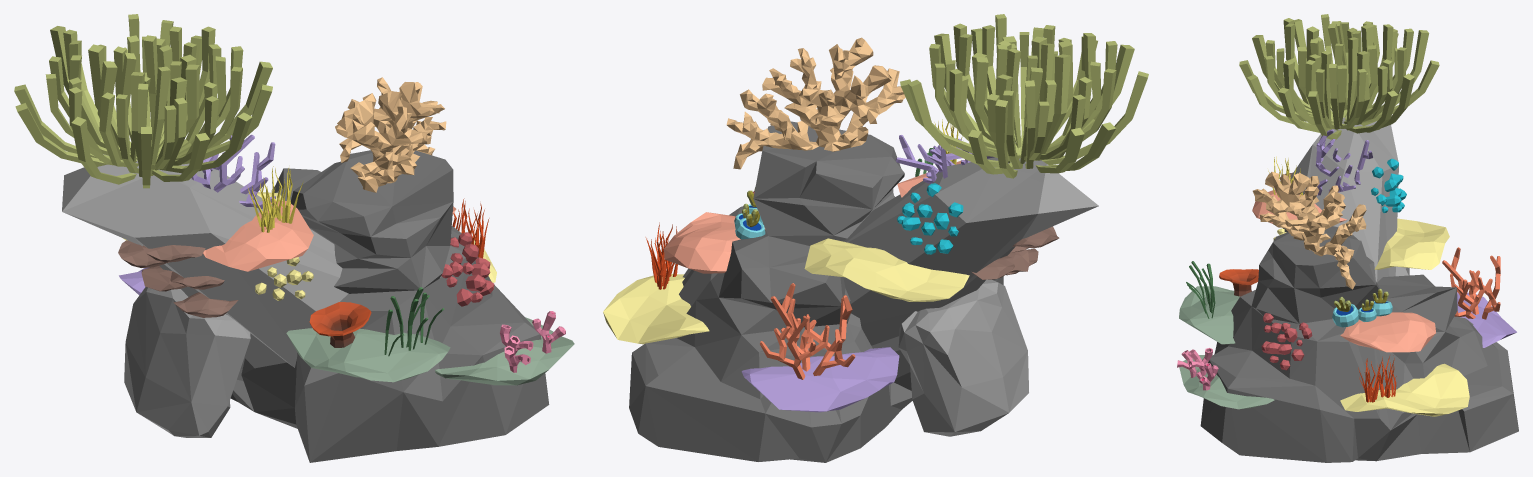
Rendered from Coral_reef_004.glb.
3 views of the same model, side by side, from view 1: azimuth 30°, elevation 25°; view 2: azimuth 150°, elevation 25°; view 3: azimuth 270°, elevation 25° (orthographic). The views are drawn at different scales.
Visible parts, largest first — view 1: Coral_reef_004; view 2: Coral_reef_004; view 3: Coral_reef_004.
Boxes of the visible parts, x1,y1,x2,y2 form: Coral_reef_004: [14, 14, 574, 462]; Coral_reef_004: [603, 14, 1148, 462]; Coral_reef_004: [1177, 14, 1518, 462].
Size of the model in its own units: 4.33 by 3.41 by 3.47.
1 material, 1 textured.
